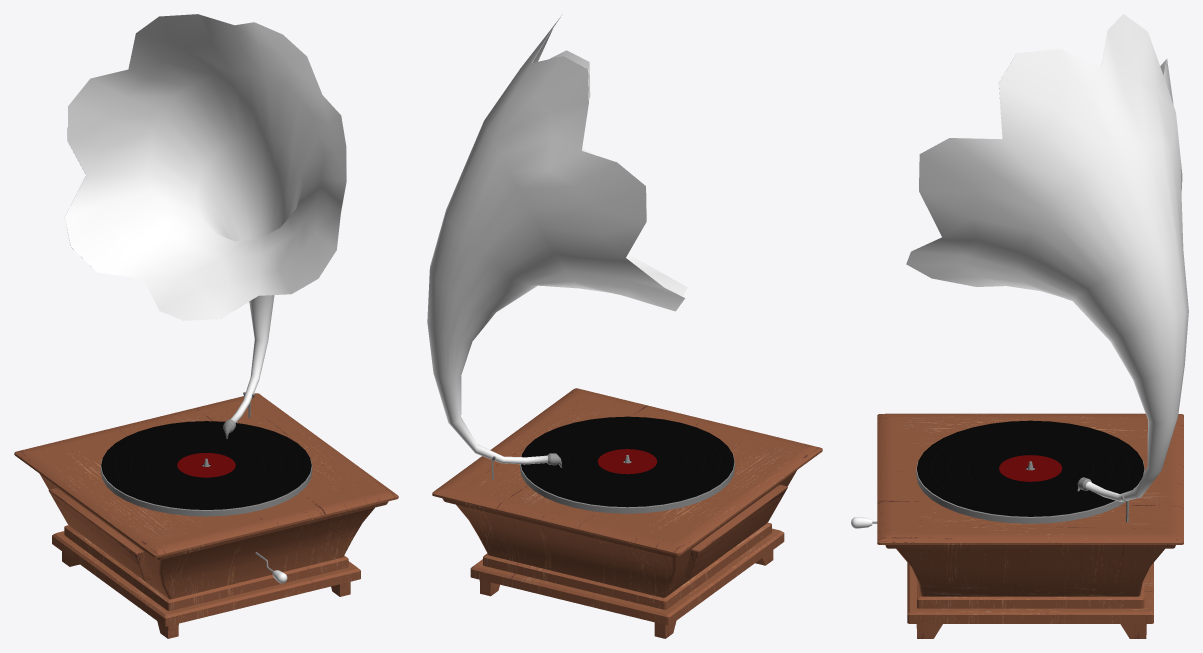
Rendered from Recorder 2.fbx.
3 views of the same model, side by side, from view 1: azimuth 30°, elevation 25°; view 2: azimuth 150°, elevation 25°; view 3: azimuth 270°, elevation 25° (orthographic). The views are drawn at different scales.
Parts seen in each view (by area): view 1: Cylinder003, Box001, Cylinder002, Box002, Cylinder008; view 2: Cylinder003, Box001, Cylinder002, Box002, Cylinder008; view 3: Cylinder003, Box001, Cylinder002, Cylinder008.
Boxes of the visible parts, left/top/right/bottom form: Cylinder003: left=64, top=14, right=346, bottom=438; Box001: left=14, top=393, right=398, bottom=638; Cylinder002: left=101, top=421, right=311, bottom=509; Box002: left=48, top=488, right=150, bottom=580; Cylinder008: left=100, top=392, right=312, bottom=516; Cylinder003: left=427, top=14, right=687, bottom=467; Box001: left=432, top=388, right=822, bottom=638; Cylinder002: left=521, top=416, right=734, bottom=507; Box002: left=684, top=484, right=787, bottom=578; Cylinder008: left=491, top=450, right=734, bottom=513; Cylinder003: left=906, top=14, right=1188, bottom=501; Box001: left=877, top=413, right=1183, bottom=638; Cylinder002: left=917, top=420, right=1144, bottom=516; Cylinder008: left=916, top=454, right=1144, bottom=523.
Size of the model in its own units: 23.38 by 45.78 by 24.4.
